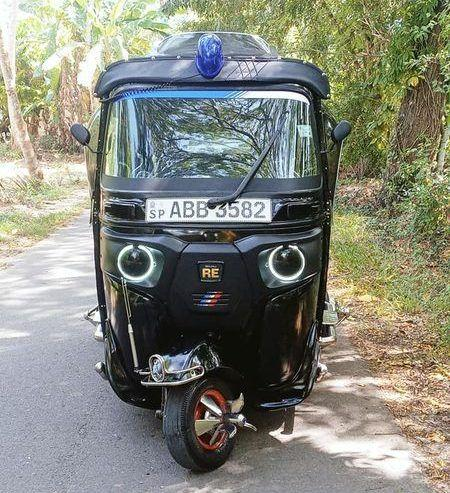threewheel: (71, 33, 351, 473)
